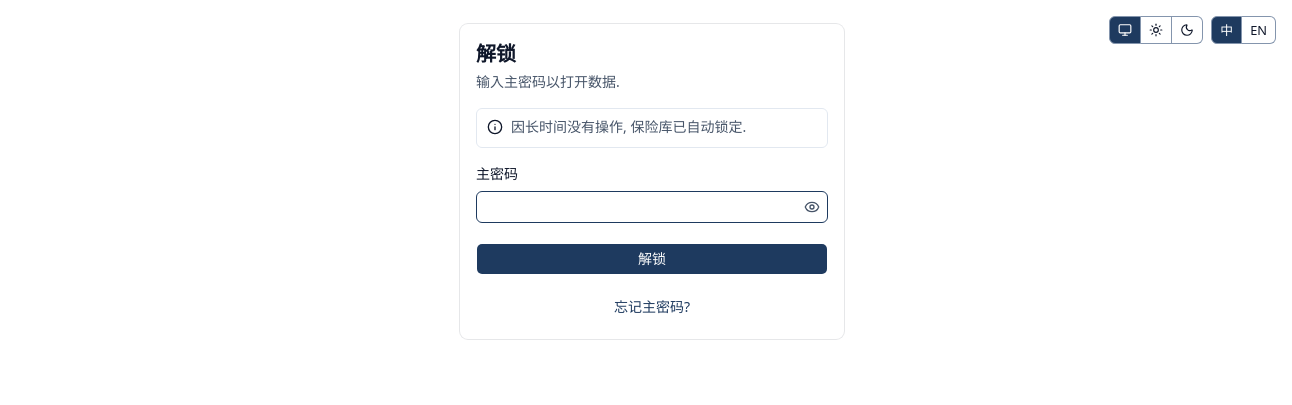
it: 自动锁定: 对话框与重新解锁 › 输入主密码重新解锁后回到工作区, 条目重新读取, 原因说明消失
Type "current master password" into the password field labelled "主密码" at (638, 207), box [477,191,800,223]
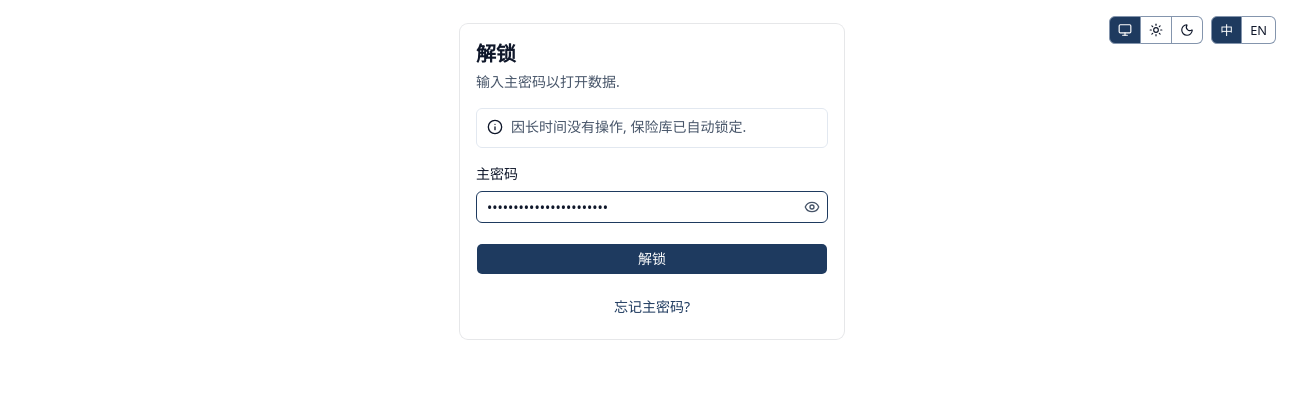
Click the button "解锁" at (652, 259), box [476,243,828,275]
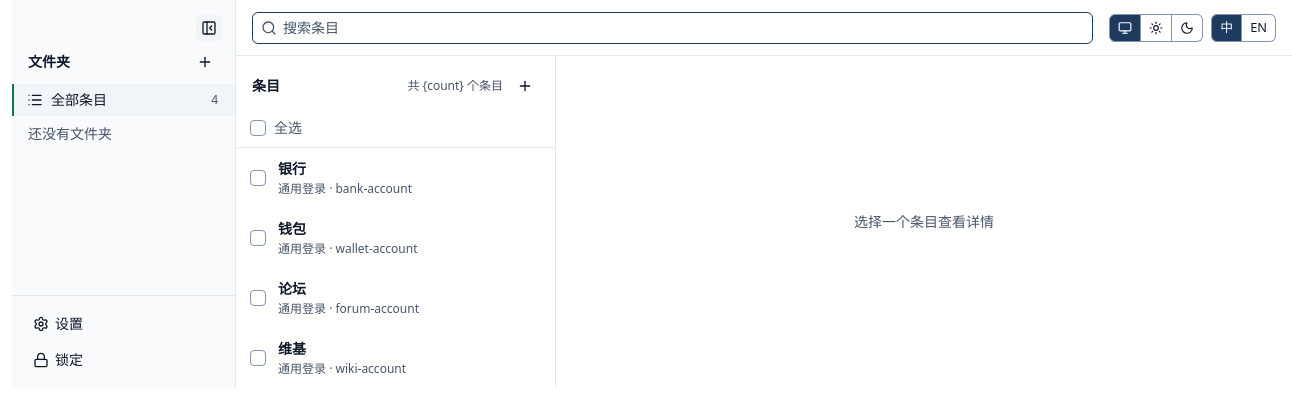
Expected: the search field labelled "搜索" is shown, [277,12,1092,44]
Expected: the text "保险库已自动锁定" is gone
Expected: the text "银行" is shown, [278,159,306,178]
